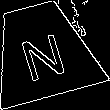N_N: (14, 21, 69, 80)
